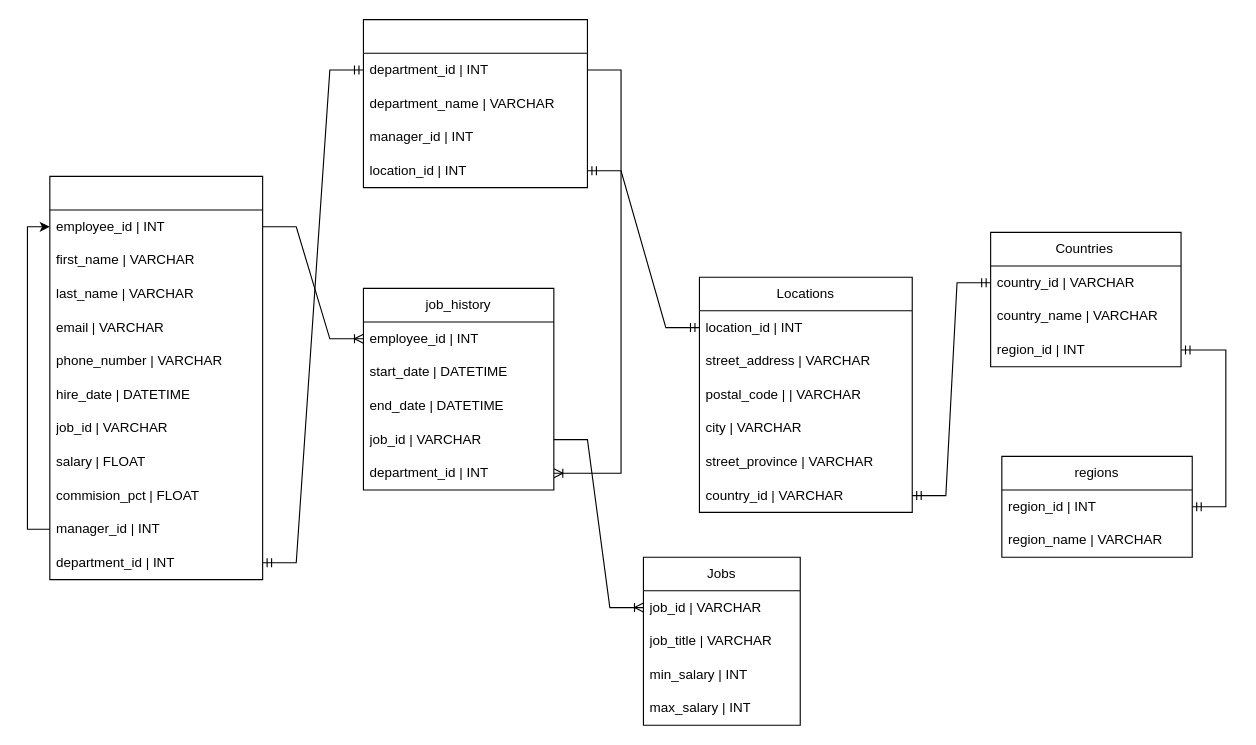
This 1256x745 diagram has some shape labels left out. The shapes that lost their labels are listed below. From the top down, each one's box as (x1, y1, x2, y2) in pixels, then its label:
(362, 18, 587, 188): Departments
(49, 175, 263, 580): Employees
